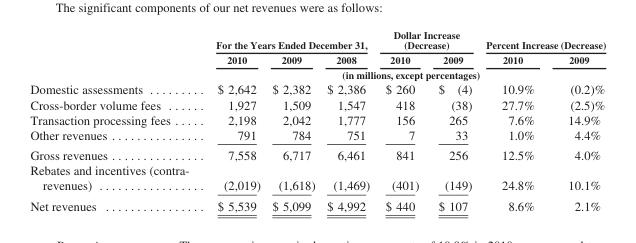table: (29, 28, 605, 212)
table column: (29, 28, 201, 212), (478, 28, 550, 212), (201, 28, 265, 212), (320, 28, 376, 212), (265, 28, 320, 212), (550, 28, 605, 212), (376, 28, 428, 212), (428, 28, 478, 212)
table column header: (29, 28, 605, 81)
table row: (29, 162, 605, 195), (29, 28, 605, 51), (29, 144, 605, 162), (29, 127, 605, 144), (29, 195, 605, 212), (29, 51, 605, 67), (29, 111, 605, 127), (29, 81, 605, 96), (29, 96, 605, 111), (29, 67, 605, 81)
table spanning cell: (201, 67, 605, 81), (201, 28, 376, 51), (478, 28, 605, 51), (376, 28, 478, 51)
